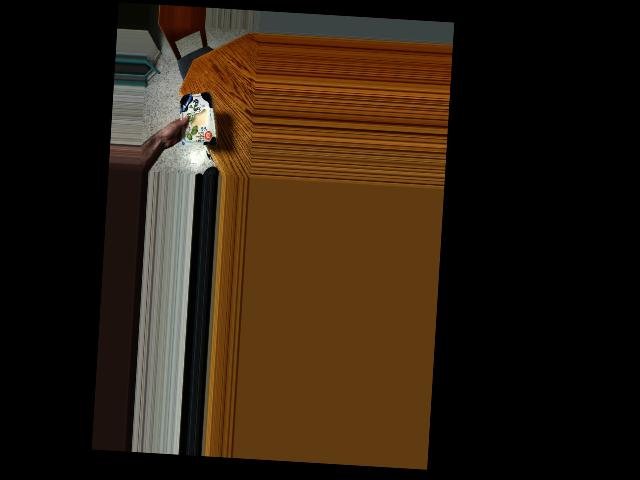cheese: (179, 91, 213, 142)
